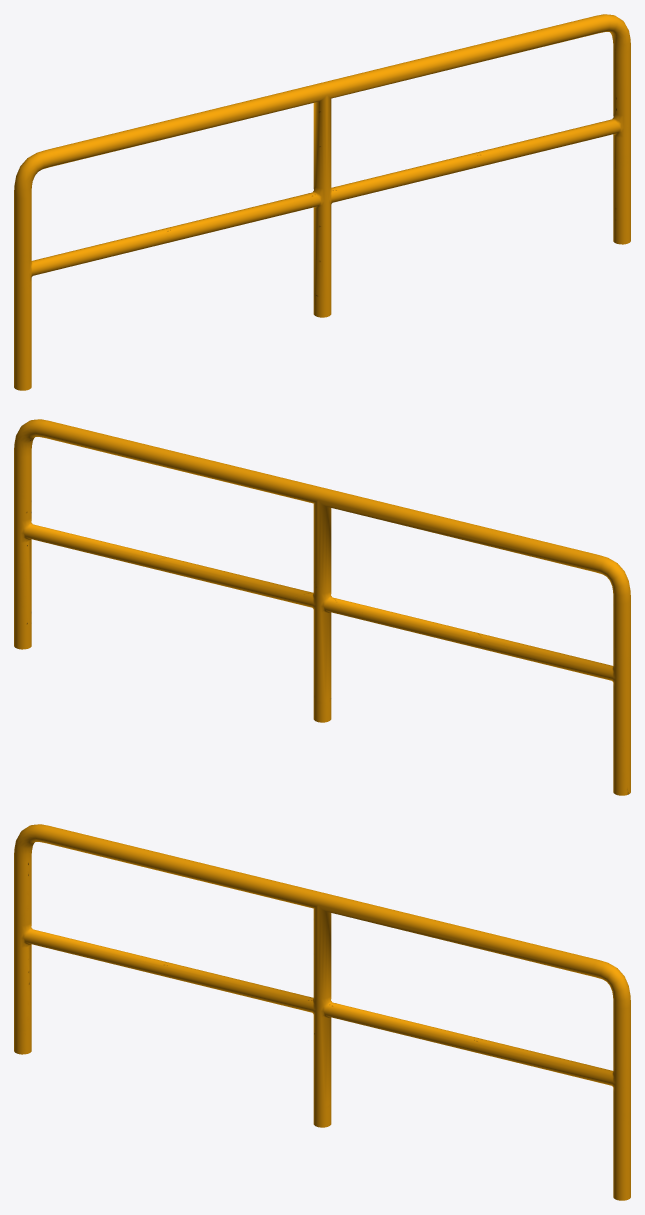
The model's file is Railing_Yellow.dae.
3 renders of one model, top to bottom at view 1: azimuth 30°, elevation 25°; view 2: azimuth 150°, elevation 25°; view 3: azimuth 330°, elevation 25°, orthographic.
Visible parts, largest first — view 1: polySurface44; view 2: polySurface44; view 3: polySurface44.
Boxes of the visible parts, box(x1,y1,x2,y2) form: polySurface44: box(14, 14, 630, 390); polySurface44: box(14, 419, 630, 795); polySurface44: box(14, 824, 630, 1200).
Size of the model in its own units: 3.83 by 1.37 by 0.0962.
Materials: 1 (1 with a texture image).
